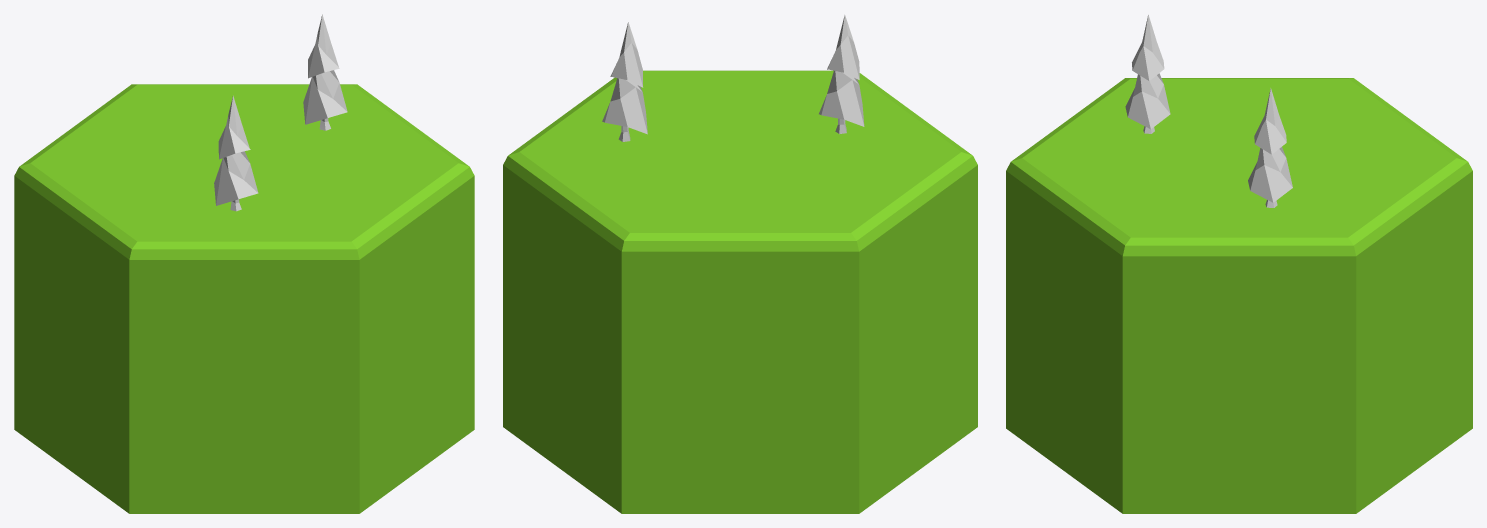
File: Hex Tiles.fbx
3 views of the same model, side by side, from view 1: azimuth 30°, elevation 25°; view 2: azimuth 150°, elevation 25°; view 3: azimuth 270°, elevation 25° (orthographic). The views are drawn at different scales.
Parts seen in each view (by area): view 1: SpruceTree2; view 2: SpruceTree2; view 3: SpruceTree2.
Part boxes in pixels (<box>): SpruceTree2: <box>14,14,474,513</box>; SpruceTree2: <box>503,14,977,513</box>; SpruceTree2: <box>1006,14,1472,513</box>.
Size of the model in its own units: 173 by 183 by 200.
